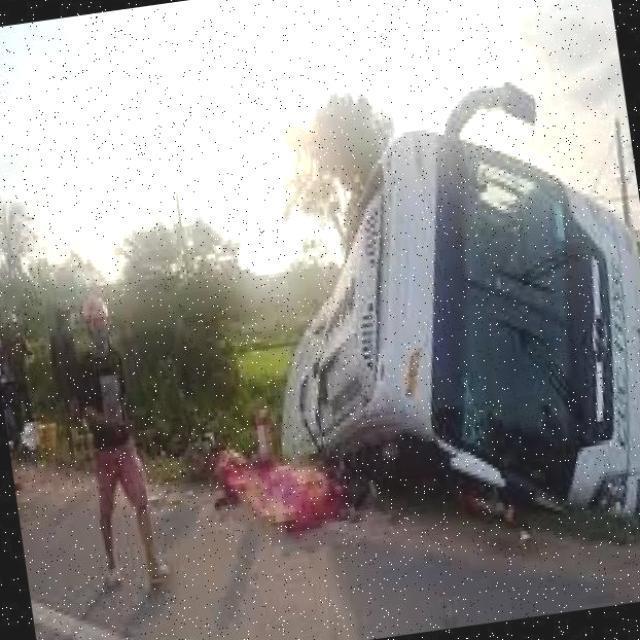accident: (221, 101, 640, 593)
